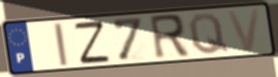7: (111, 17, 146, 63)
I: (51, 21, 70, 68)
Q: (187, 11, 232, 56)
R: (147, 13, 192, 62)
V: (225, 7, 263, 54)
Z: (72, 19, 112, 66)
